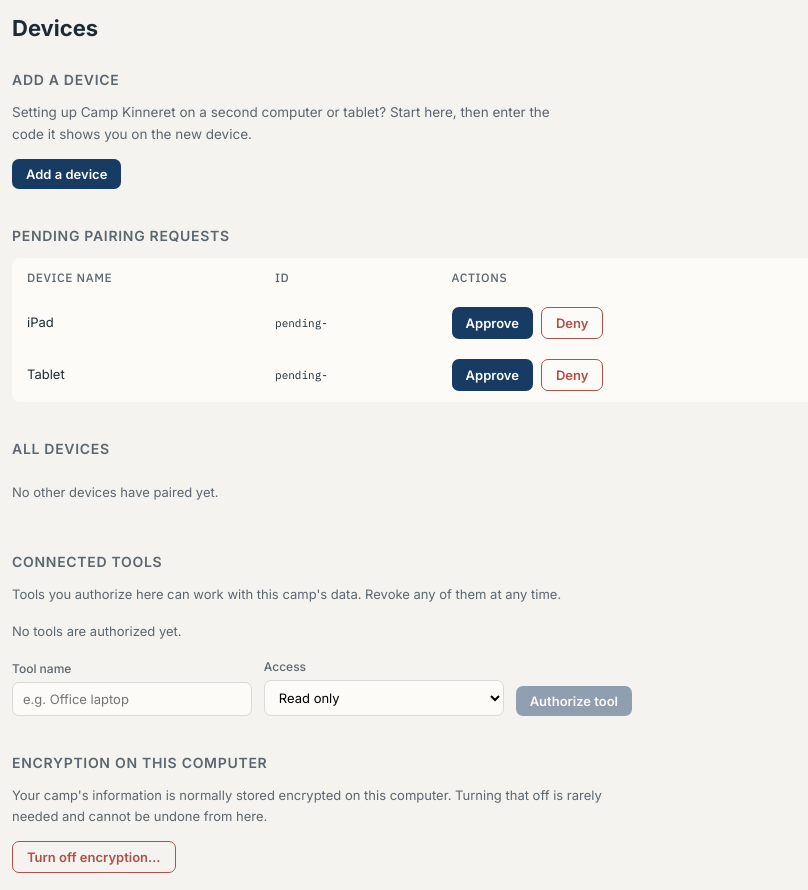
Test: DeviceManagerScreen — approve when the joiner is gone (T346) › shows the flag inside that request row, not in the error banner
Click the button "Approve" in the row of "iPad": (492, 323) [452,307,533,339]
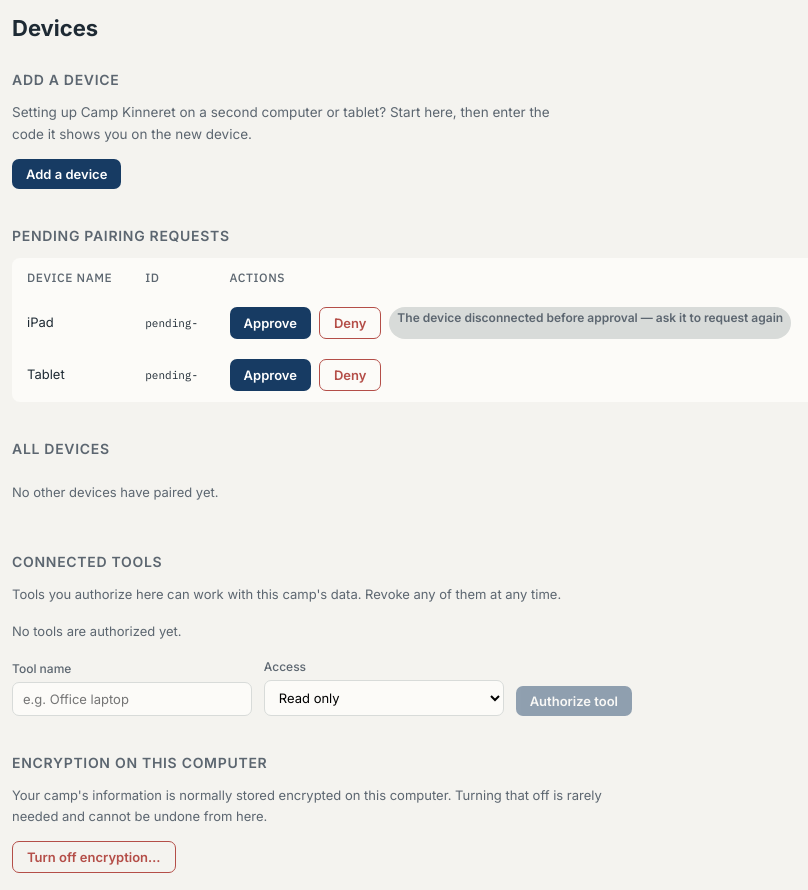
expect the text "The device disconnected before approval — ask it to request again" shows "iPad": met, box [27,314,54,330]
expect the text "The device disconnected before approval — ask it to request again" is shown once: met, box [389,307,791,339]
